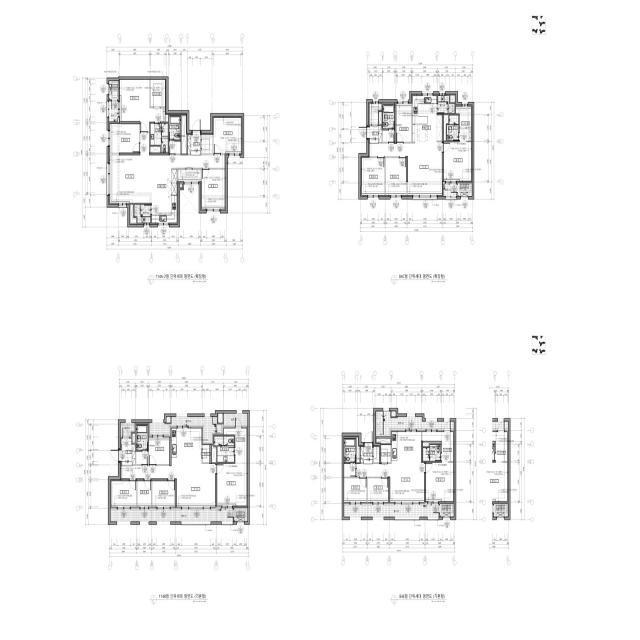space_balconi: (149, 417, 222, 445), (376, 411, 454, 435), (111, 508, 233, 522), (344, 504, 439, 517), (224, 413, 247, 427), (134, 205, 151, 223), (438, 96, 455, 113), (121, 422, 135, 437), (109, 101, 118, 122), (444, 184, 457, 196)
space_bedroom: (120, 80, 165, 132), (217, 464, 247, 506), (444, 142, 471, 181), (426, 463, 453, 501), (214, 117, 242, 153), (202, 170, 226, 209), (362, 158, 385, 195), (110, 124, 139, 153), (386, 158, 406, 195), (111, 481, 136, 507), (152, 481, 175, 507), (344, 478, 367, 502), (149, 437, 169, 464), (368, 478, 388, 502)
space_dressroom: (422, 432, 453, 461), (223, 428, 247, 464), (150, 80, 165, 107), (456, 107, 471, 127)
space_front: (121, 439, 135, 466), (361, 447, 379, 463), (188, 133, 201, 155), (370, 126, 382, 143)
space_kitchen: (412, 96, 442, 142), (152, 169, 177, 223), (171, 428, 202, 465), (392, 432, 421, 463)
space_living_room: (110, 133, 226, 203), (121, 464, 215, 507), (370, 142, 442, 195), (357, 463, 424, 502)
space_other: (396, 104, 411, 142), (137, 481, 151, 507), (178, 169, 201, 181), (370, 104, 382, 125), (202, 134, 213, 153), (182, 116, 187, 154), (381, 445, 391, 462), (169, 141, 181, 154), (136, 452, 148, 464), (460, 128, 471, 141), (344, 464, 355, 477), (383, 130, 394, 142), (203, 445, 209, 463), (130, 205, 136, 223), (444, 115, 448, 141), (423, 442, 441, 447), (357, 437, 360, 463), (212, 445, 216, 462), (377, 438, 390, 443), (218, 414, 223, 423), (379, 112, 382, 124), (450, 96, 455, 102), (132, 434, 135, 443), (391, 411, 396, 416), (166, 417, 170, 423), (166, 114, 168, 122), (180, 184, 182, 187)
space_outdoor_room: (440, 504, 454, 517), (234, 508, 247, 522), (458, 183, 472, 196), (109, 81, 118, 100)
space_toilet: (150, 124, 168, 153), (214, 436, 234, 462), (136, 425, 148, 450), (169, 116, 181, 141), (423, 445, 441, 461), (447, 115, 458, 141), (344, 439, 356, 462), (383, 105, 394, 129)
